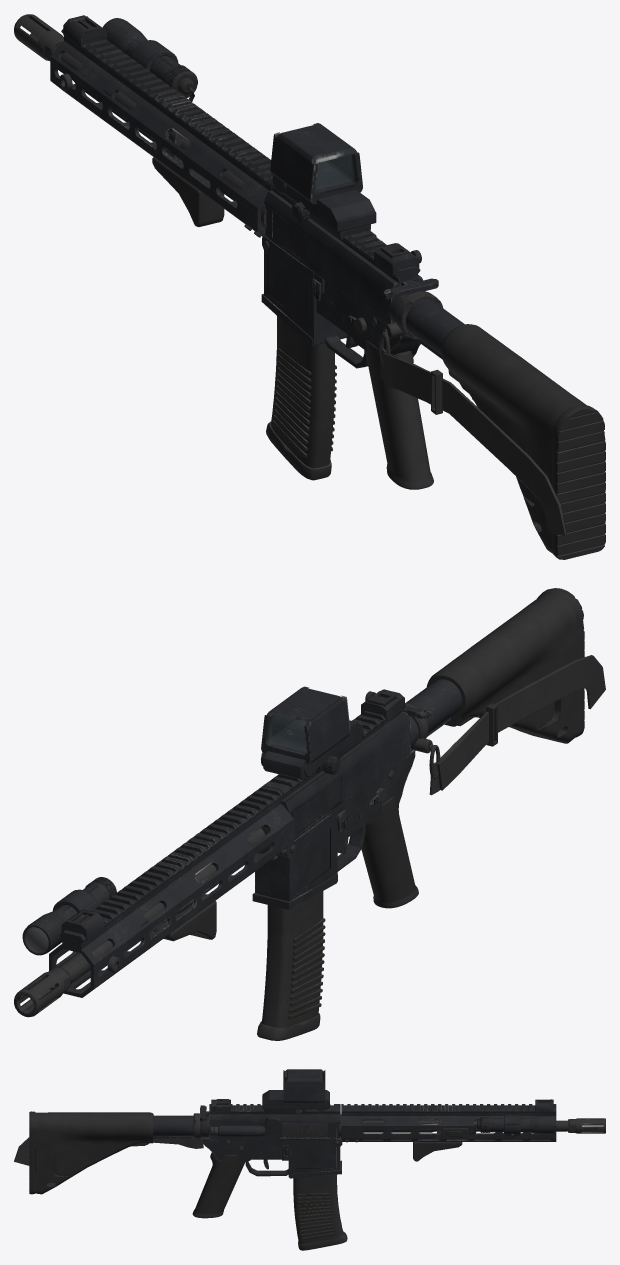
File: carbine.glb
3 views of the same model, one above another, from view 1: azimuth 30°, elevation 25°; view 2: azimuth 150°, elevation 25°; view 3: azimuth 270°, elevation 25° (orthographic). The views are drawn at different scales.
Visible parts, largest first — view 1: W_Receiver, W_Furniture, W_Accessories, W_Mag, W_SightGlass; view 2: W_Receiver, W_Furniture, W_Accessories, W_Mag, W_SightGlass; view 3: W_Receiver, W_Furniture, W_Accessories, W_Mag, W_DustCover.
Part boxes in pixels (left/top/right/bottom): W_Receiver: left=50, top=29, right=464, bottom=359; W_Furniture: left=152, top=77, right=605, bottom=559; W_Accessories: left=14, top=14, right=473, bottom=400; W_Mag: left=266, top=316, right=336, bottom=480; W_SightGlass: left=315, top=155, right=354, bottom=189; W_Receiver: left=49, top=679, right=462, bottom=997; W_Furniture: left=110, top=588, right=605, bottom=941; W_Accessories: left=14, top=686, right=479, bottom=1017; W_Mag: left=257, top=891, right=325, bottom=1040; W_SightGlass: left=268, top=714, right=306, bottom=752; W_Receiver: left=153, top=1104, right=556, bottom=1178; W_Furniture: left=14, top=1100, right=480, bottom=1218; W_Accessories: left=129, top=1069, right=605, bottom=1176; W_Mag: left=293, top=1174, right=347, bottom=1250; W_DustCover: left=282, top=1123, right=327, bottom=1140.
Size of the model in its own units: 0.0815 by 0.2752 by 0.8479.
7 materials, 5 textured.
